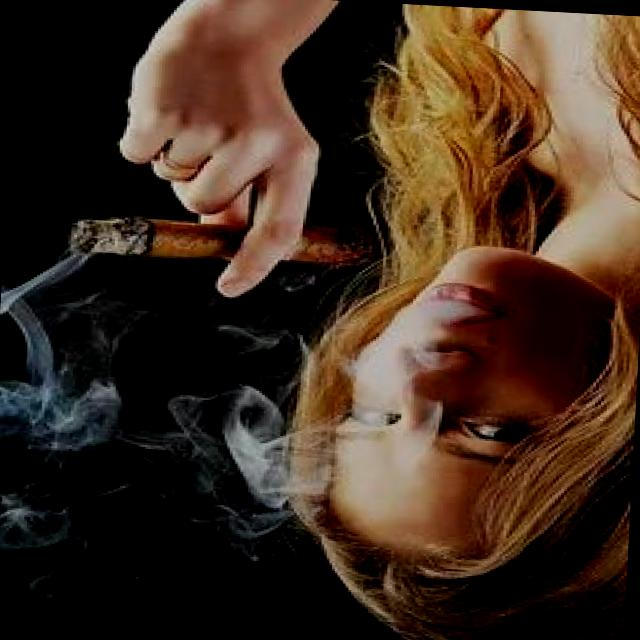smoke: (56, 210, 377, 275)
